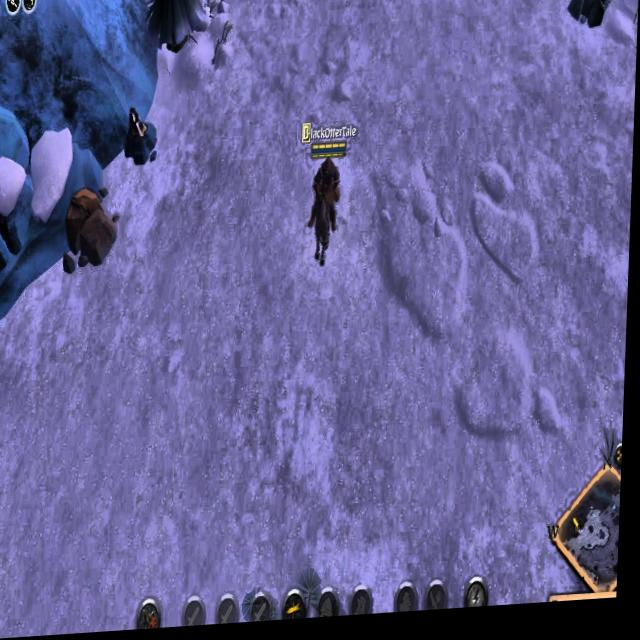copperore: (122, 109, 161, 171)
limestone: (63, 186, 120, 273)
sandstone: (565, 0, 615, 40)
